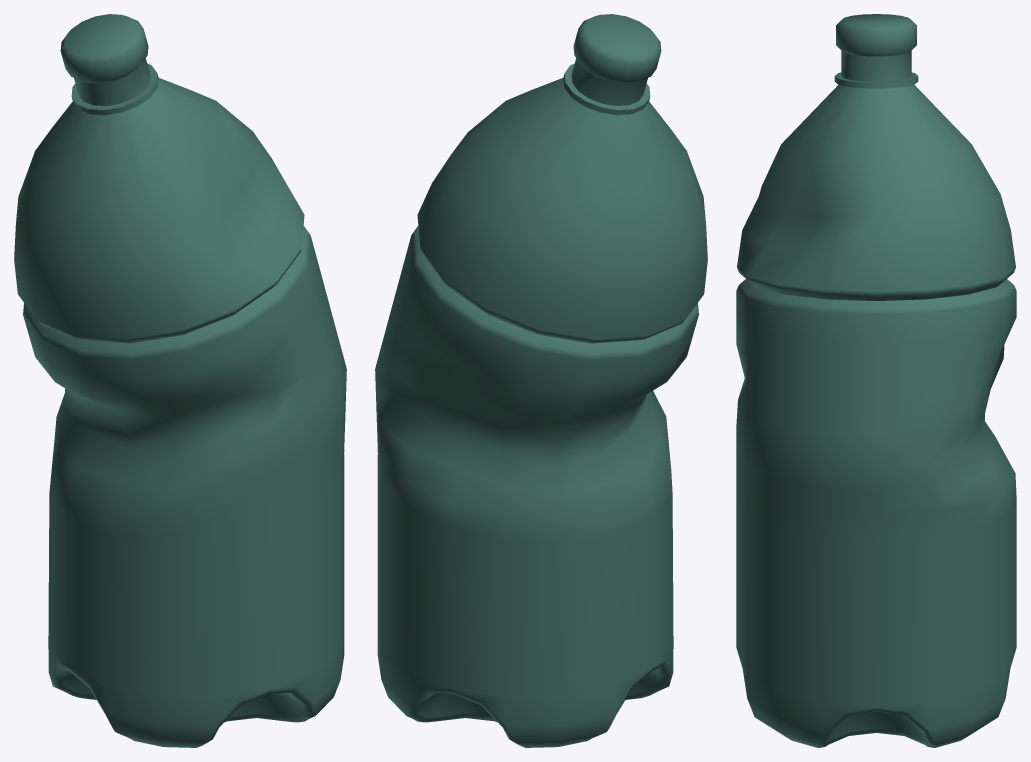
The model's file is Bottle_Water.fbx.
The picture shows the model from 3 angles, left to right: view 1: azimuth 30°, elevation 25°; view 2: azimuth 150°, elevation 25°; view 3: azimuth 270°, elevation 25°; orthographic projection. The views are drawn at different scales.
Parts seen in each view (by area): view 1: Bottle_Water; view 2: Bottle_Water; view 3: Bottle_Water.
Boxes of the visible parts, x1,y1,x2,y2 form: Bottle_Water: [14, 14, 346, 747]; Bottle_Water: [375, 14, 707, 747]; Bottle_Water: [736, 14, 1016, 747].
Size of the model in its own units: 11.08 by 25 by 9.68.
